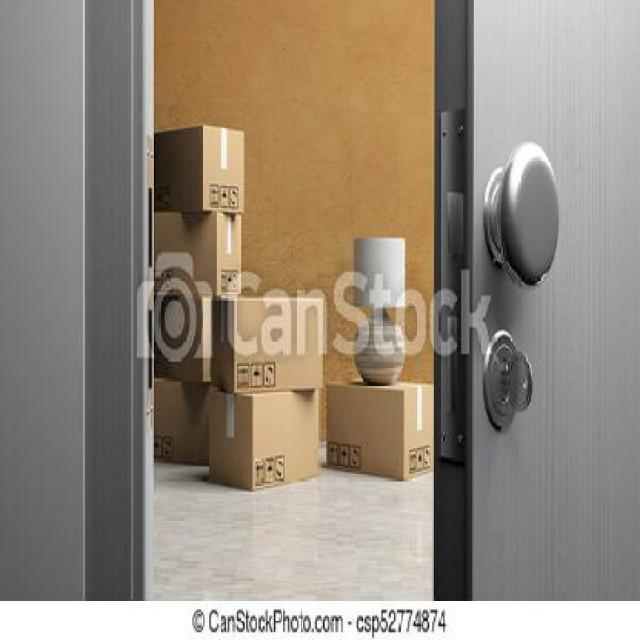box: (329, 365, 431, 480), (212, 293, 332, 390), (213, 393, 327, 495), (149, 118, 251, 213), (135, 211, 241, 294), (144, 286, 226, 385), (157, 383, 216, 472)
